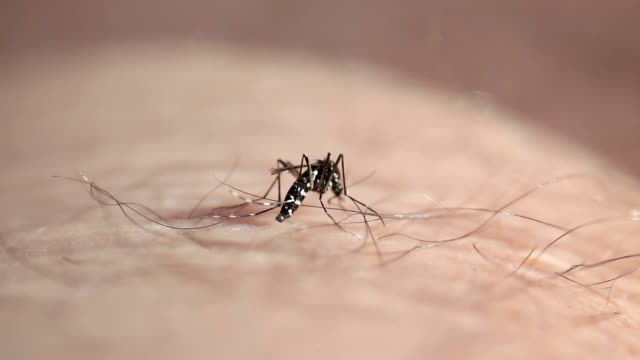dengue_mosquito: (209, 153, 384, 234)
